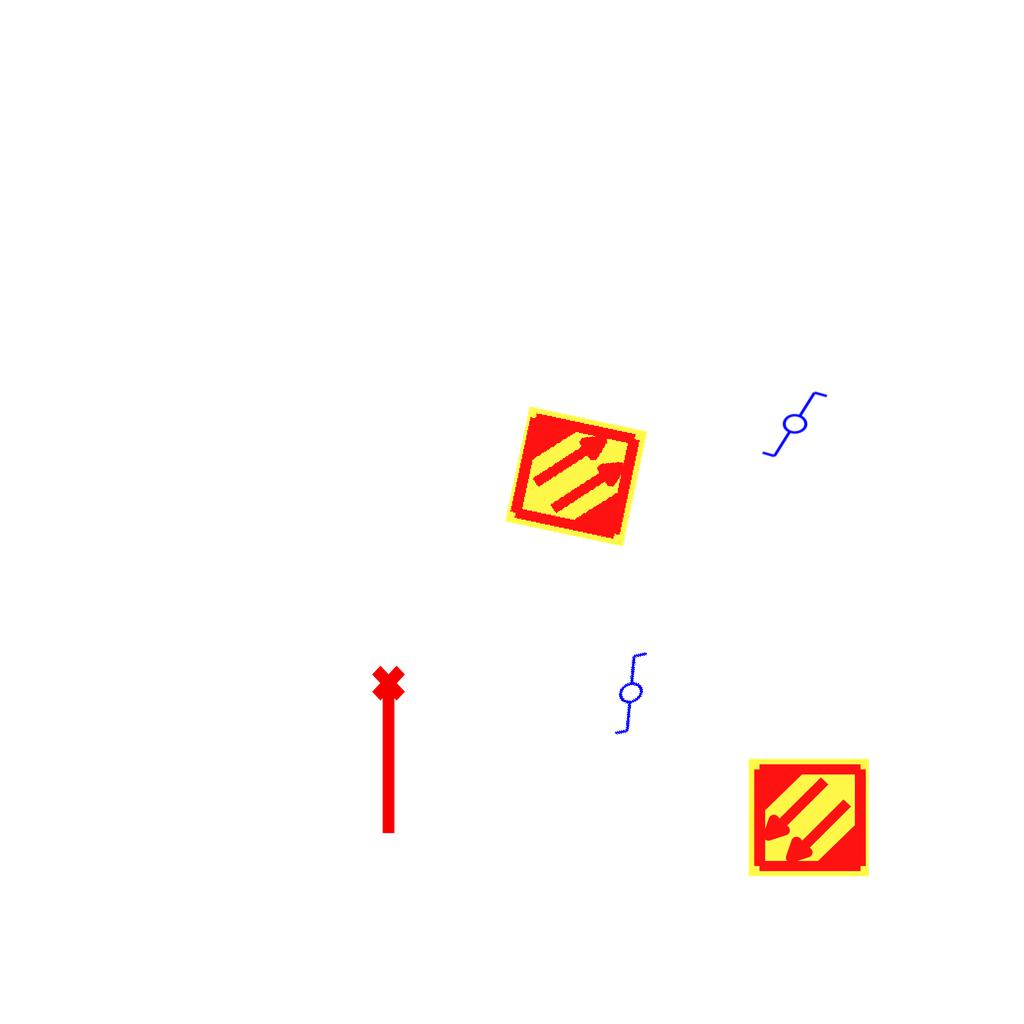ASR_Ansaugoeffnung: (368, 663, 414, 839)
ASR_Ansaugrauchmelder: (502, 402, 651, 551), (746, 755, 871, 880)
Wechselschalter: (583, 642, 687, 742), (760, 389, 838, 461)
